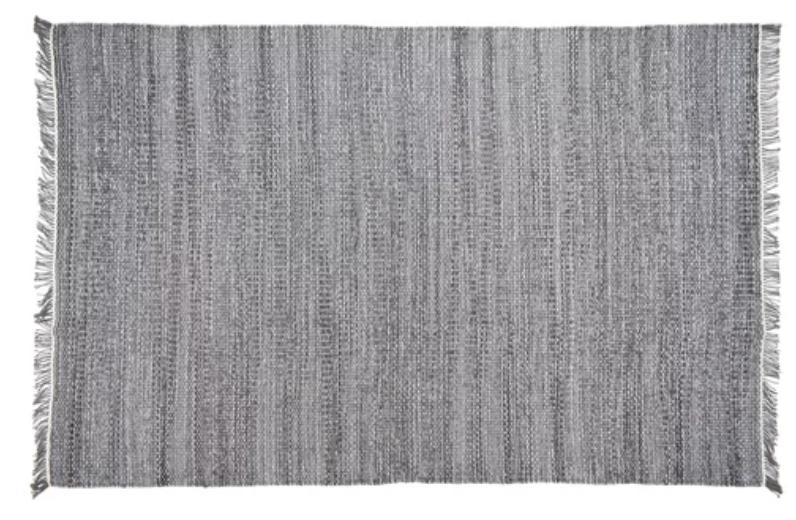carpet: (30, 17, 780, 494)
